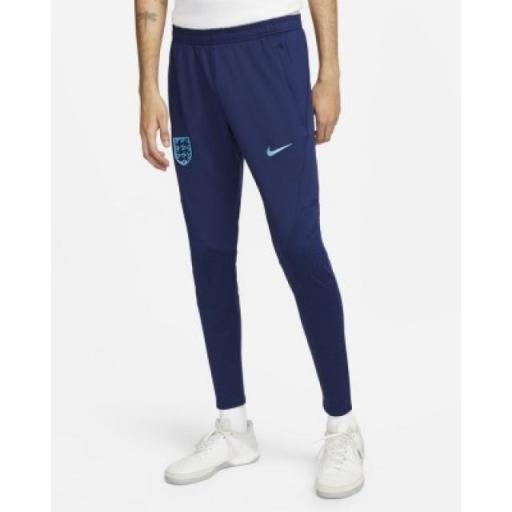Nike: (257, 144, 297, 158)
